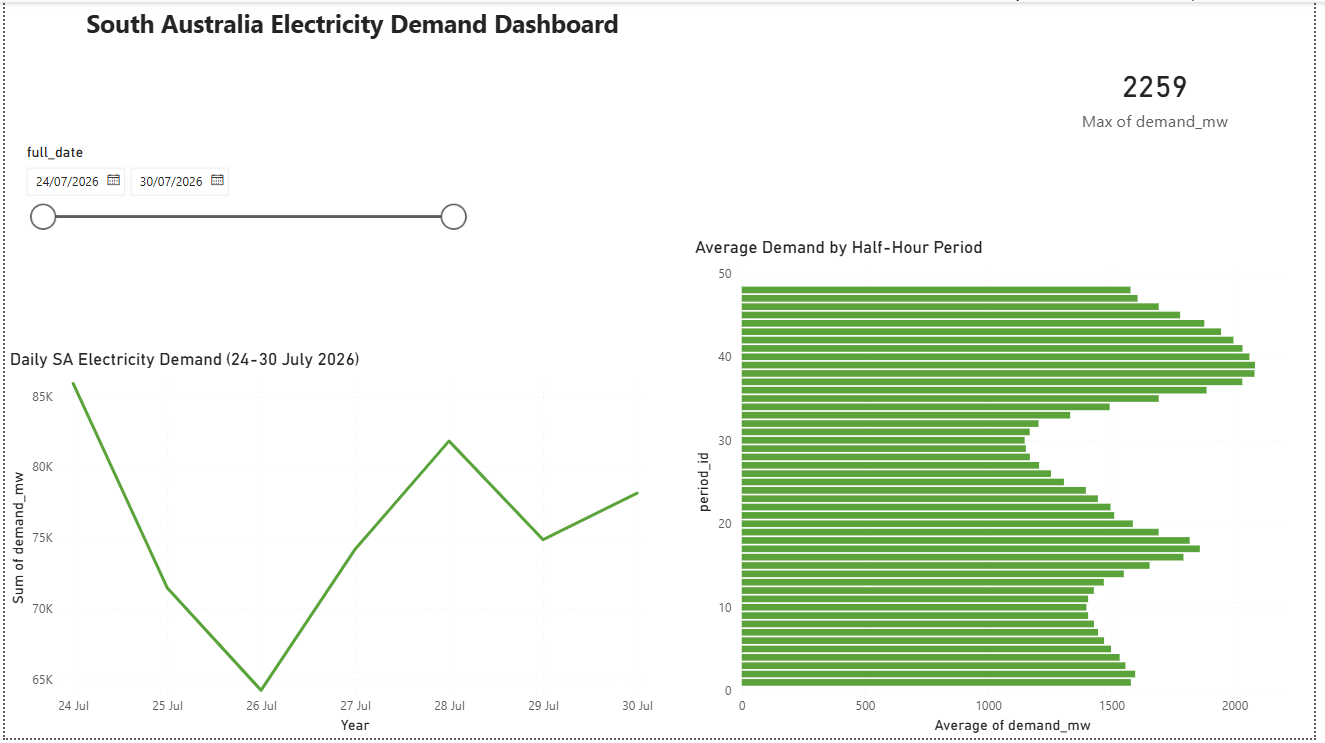

The dashboard page shown, as its layout file describes it:
{"tool":"powerbi","page":{"name":"SA Demand Overview","canvas":[1280,720],"ordinal":0},"visuals":[{"type":"lineChart","title":"Daily SA Electricity Demand (24-30 July 2026)","fields":{"Y":["Sum(fact_demand.demand_mw)"],"Category":["fact_demand.settlement_datetime.Variation.Date Hierarchy.Year","fact_demand.settlement_datetime.Variation.Date Hierarchy.Quarter","fact_demand.settlement_datetime.Variation.Date Hierarchy.Month","fact_demand.settlement_datetime.Variation.Date Hierarchy.Day"]},"box":[0,338.7,639.5,381.5],"z":0},{"type":"card","fields":{"Values":["Max(fact_demand.demand_mw)"]},"box":[969.7,0,310.6,183.4],"z":1},{"type":"clusteredBarChart","title":"Average Demand by Half-Hour Period","fields":{"Y":["Avg(fact_demand.demand_mw)"],"Category":["fact_demand.period_id"]},"box":[670.1,229.9,599.2,490.4],"z":2},{"type":"slicer","fields":{"Values":["dim_date.full_date"]},"box":[8.6,133.3,451.2,168.8],"z":3},{"type":"textbox","box":[74.6,0,564.9,64.8],"z":4}]}

Visuals, with their boxes in screenshot pixels (x1, y1, x2, y2), scaled from the page's 1280x720 canvas onto the 1325x743 screenshot:
"Daily SA Electricity Demand (24-30 July 2026)" lineChart: 0, 350, 662, 742
card - Max(fact_demand.demand_mw): 1004, 0, 1324, 189
"Average Demand by Half-Hour Period" clusteredBarChart: 694, 237, 1314, 742
slicer - dim_date.full_date: 9, 138, 476, 312
textbox: 77, 0, 662, 67
